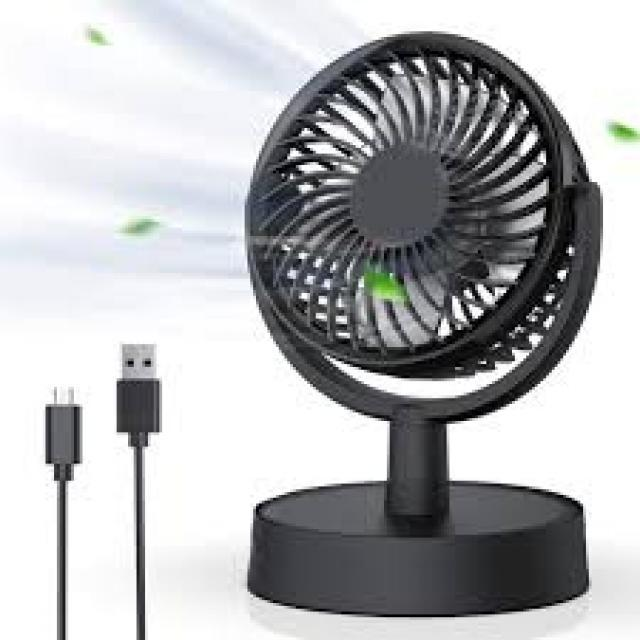fan: (216, 23, 609, 634)
